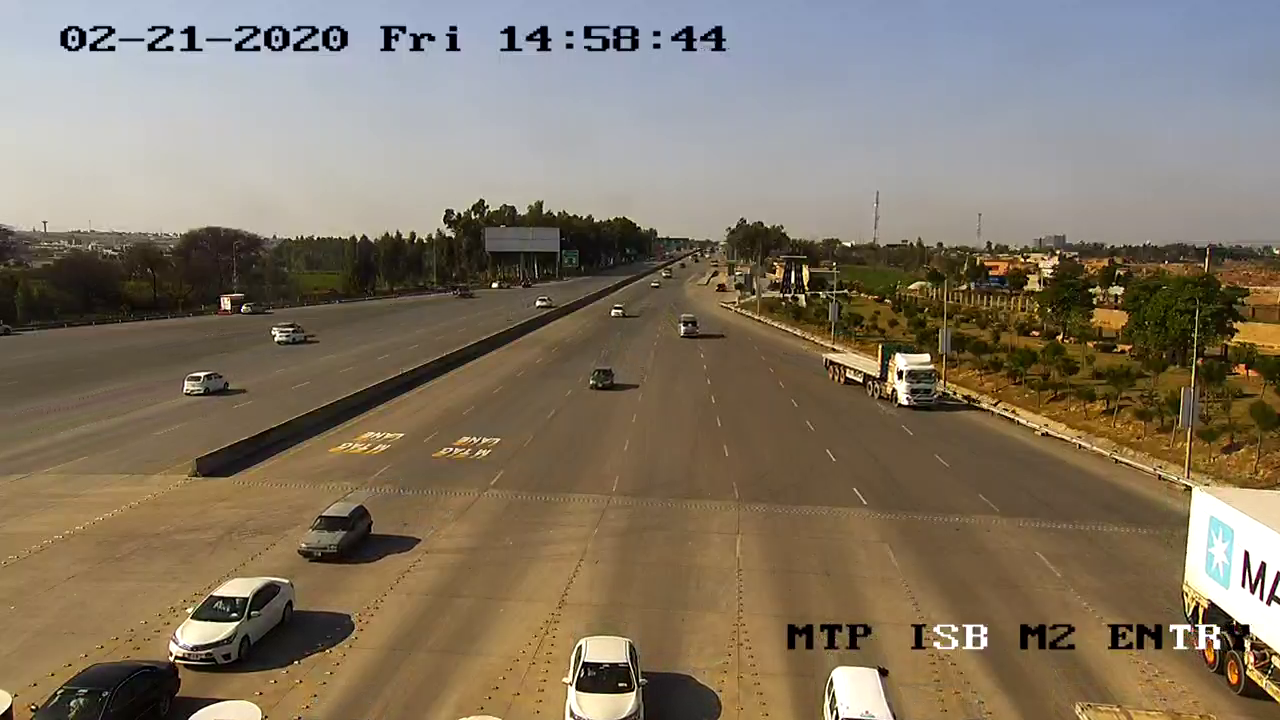f1: (159, 568, 302, 674), (552, 628, 655, 720), (290, 498, 386, 565), (577, 363, 625, 404)
f6: (815, 335, 949, 420)
